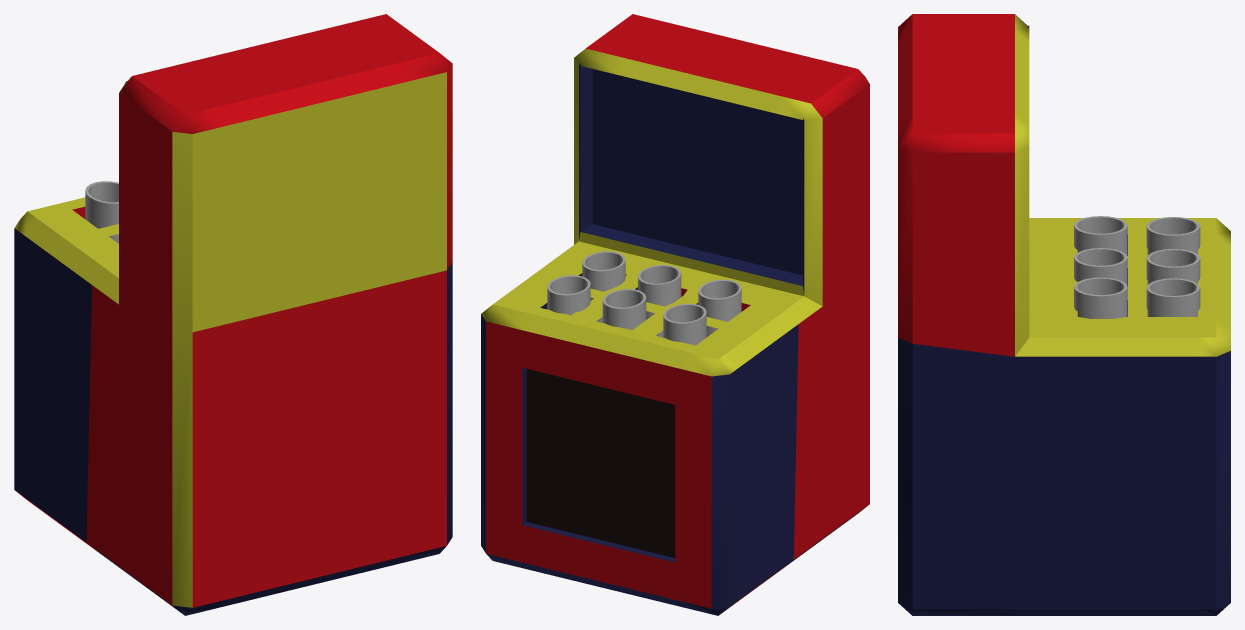
File: whackamole.fbx
3 views of the same model, side by side, from view 1: azimuth 30°, elevation 25°; view 2: azimuth 150°, elevation 25°; view 3: azimuth 270°, elevation 25° (orthographic). The views are drawn at different scales.
Visible parts, largest first — view 1: pCylinder7; view 2: pCylinder7; view 3: pCylinder7.
Part boxes in pixels (x1=…): pCylinder7: x1=14, y1=14, x2=452, y2=615; pCylinder7: x1=481, y1=14, x2=869, y2=615; pCylinder7: x1=898, y1=14, x2=1230, y2=615.
Bounding box in the file's own units: 15.82 × 27.02 × 16.9.
